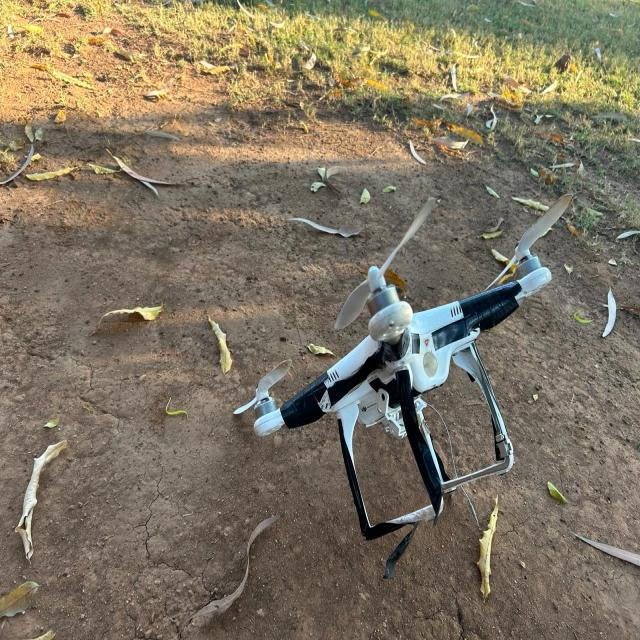drone: (177, 186, 601, 578)
